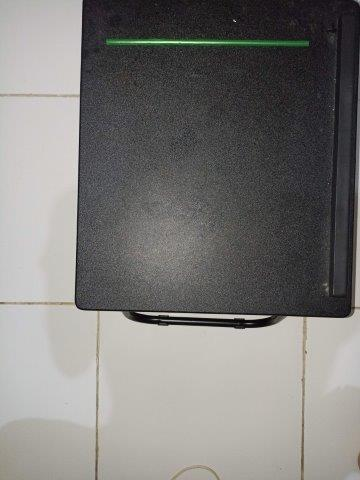sedotan: (106, 38, 309, 47)
